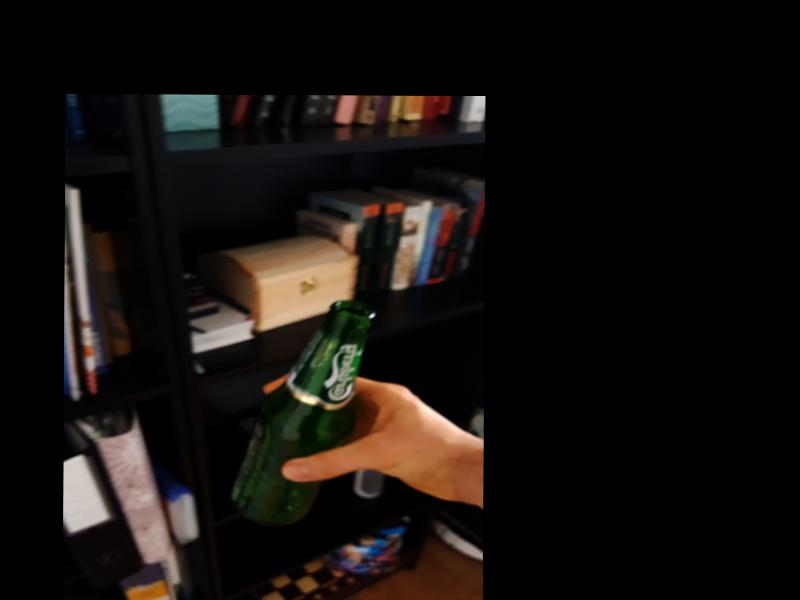Beer: (227, 300, 372, 527)
